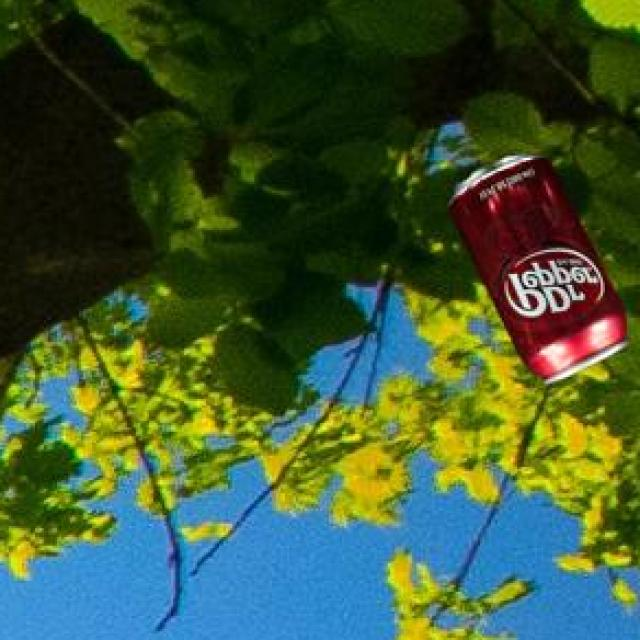logam: (446, 157, 626, 387)
